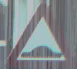Speed Breaker ahead: (9, 6, 69, 61)
